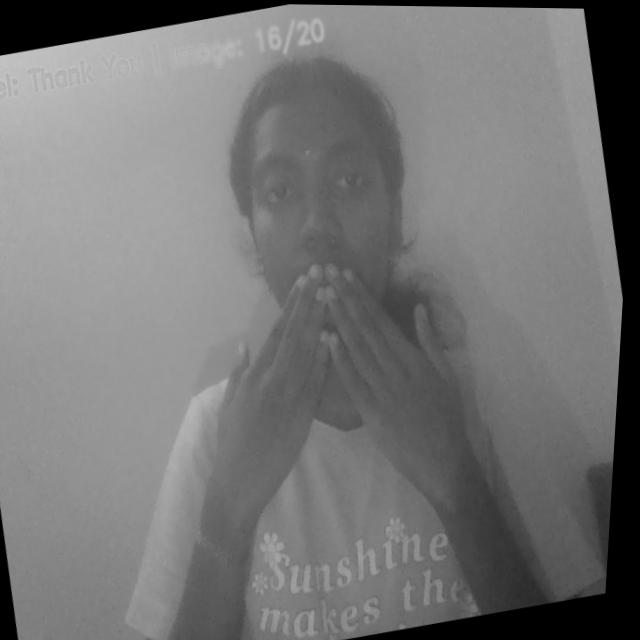Thank You: (165, 224, 514, 588)
